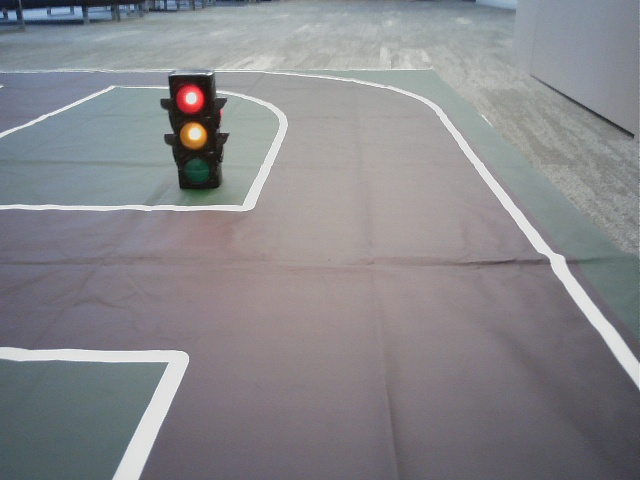red: (170, 79, 216, 183)
